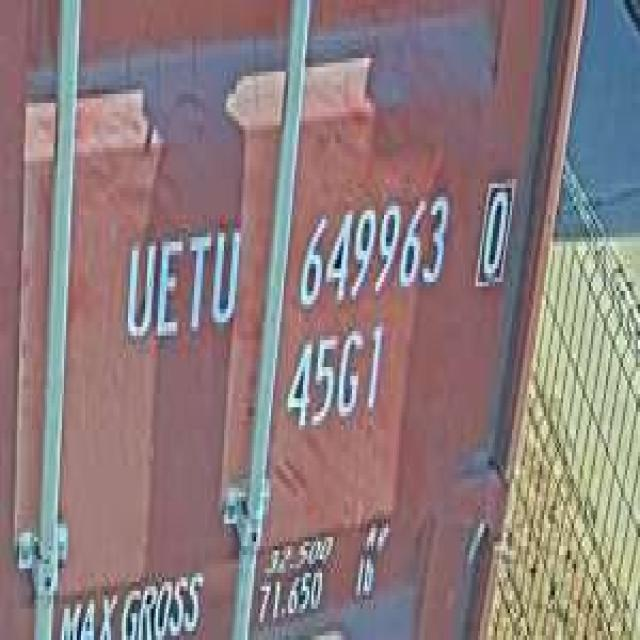dv: (472, 165, 516, 300)
owner: (118, 210, 244, 354)
serial: (292, 184, 452, 314)
size: (280, 322, 386, 439)
